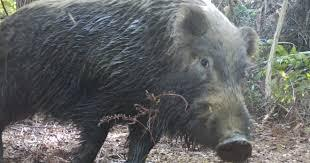wildboar: (0, 0, 262, 163)
